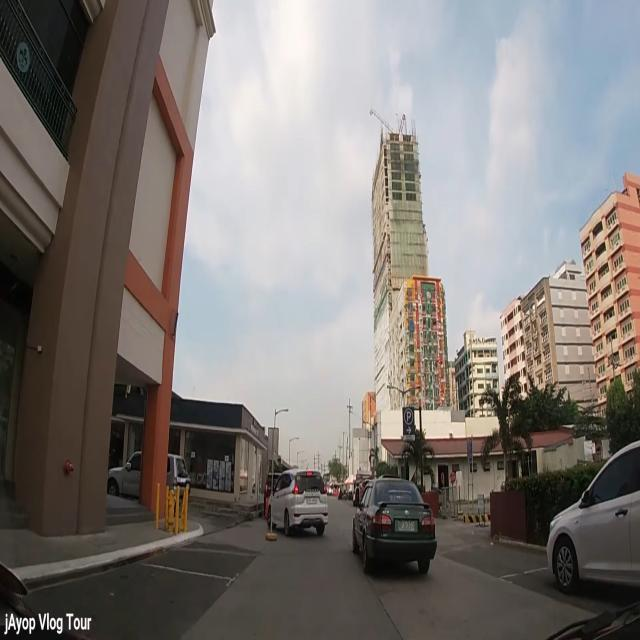car: (546, 436, 640, 599), (350, 474, 434, 575), (108, 449, 190, 504), (264, 467, 328, 537)
